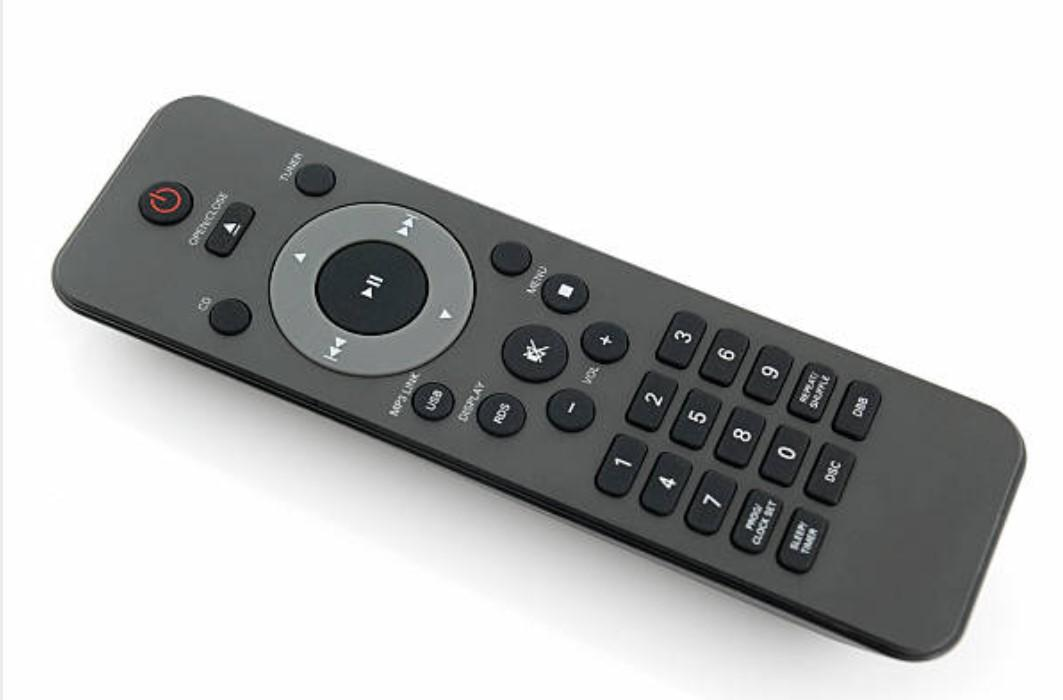Remote control: (48, 95, 1030, 665)
